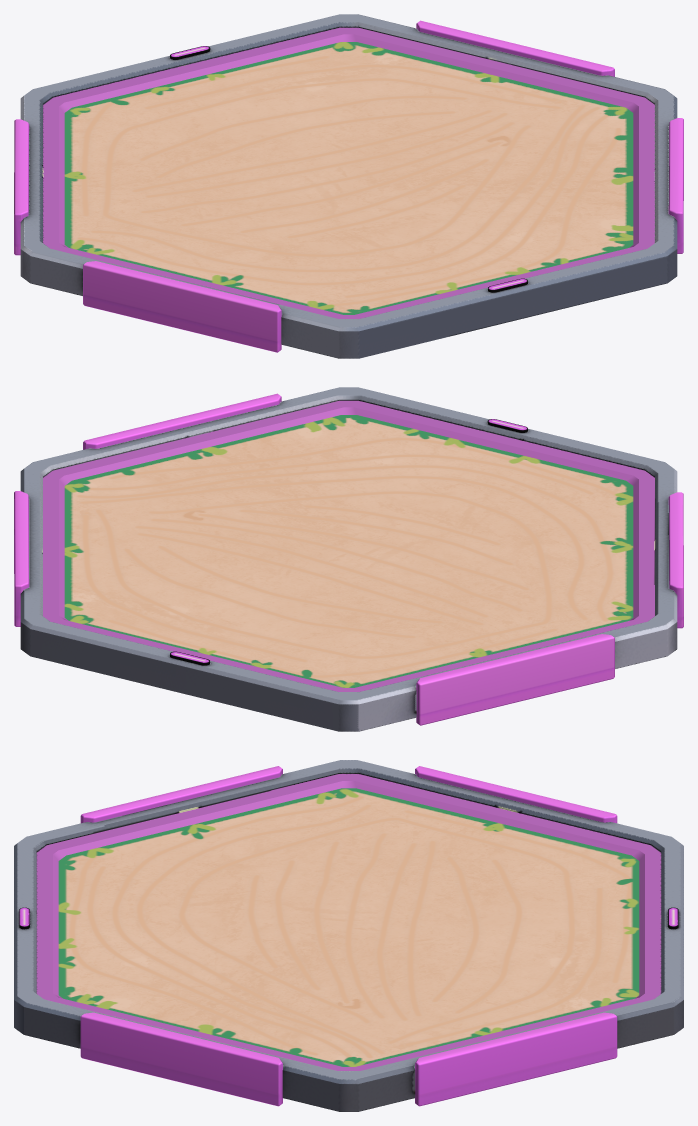
File: HexagonLargeVIP04_Art.glb
The picture shows the model from 3 angles, top to bottom: view 1: azimuth 30°, elevation 25°; view 2: azimuth 150°, elevation 25°; view 3: azimuth 270°, elevation 25°; orthographic projection. The views are drawn at different scales.
Parts seen in each view (by area): view 1: HexagonLargeVIP04_Art; view 2: HexagonLargeVIP04_Art; view 3: HexagonLargeVIP04_Art.
Part boxes in pixels (bbox=[...]): HexagonLargeVIP04_Art: bbox=[14, 14, 683, 358]; HexagonLargeVIP04_Art: bbox=[14, 387, 683, 731]; HexagonLargeVIP04_Art: bbox=[14, 760, 683, 1111].
Bounding box in the file's own units: 31.56 × 1.96 × 27.74.
Materials: 1 (1 with a texture image).
